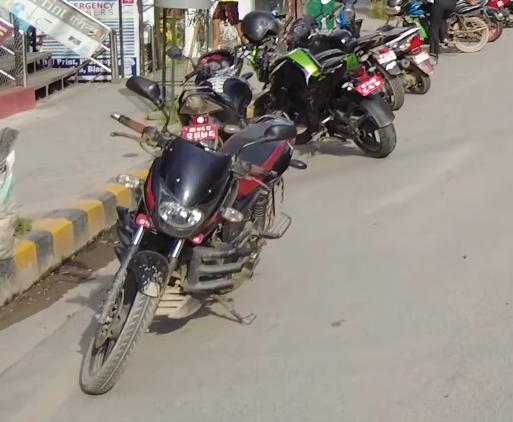bike: (74, 69, 303, 422), (243, 3, 401, 162)
